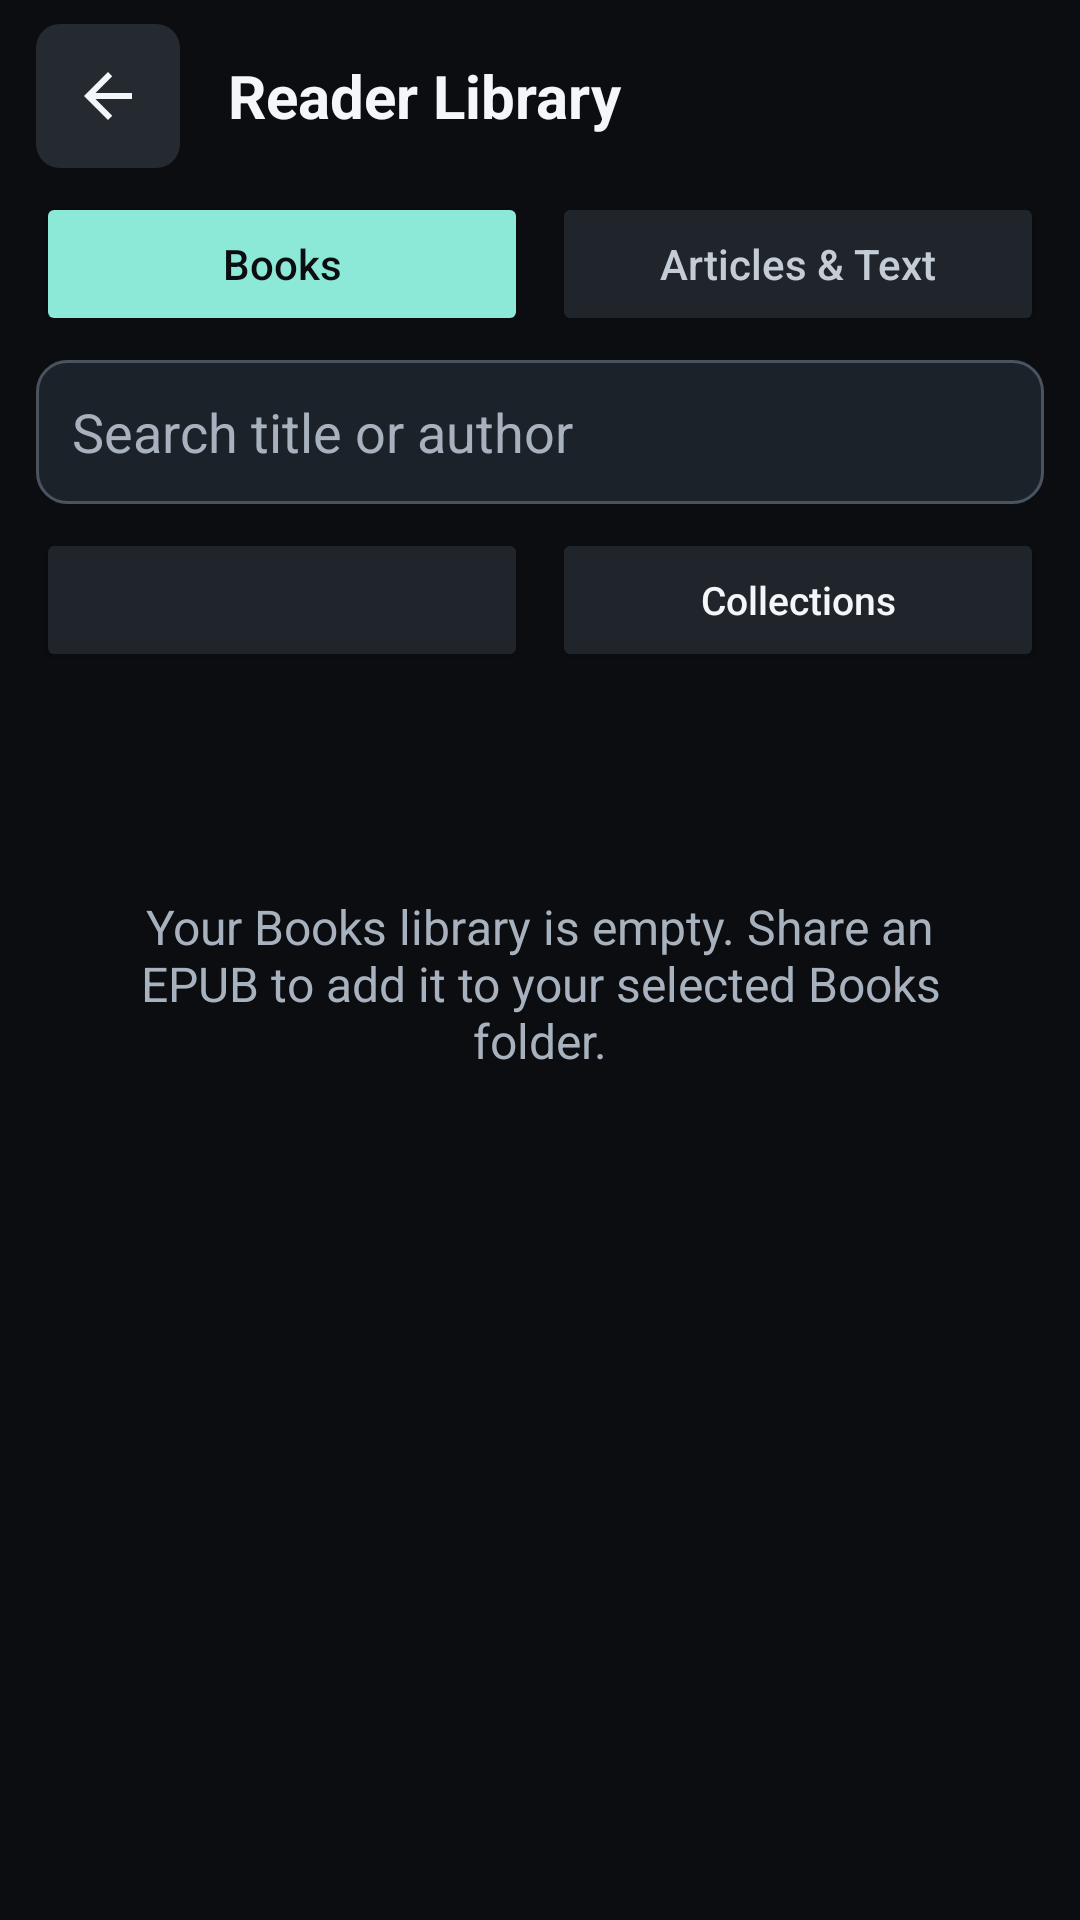

Point at icon controls on the screen. Image size 1080*1920, points as point (x, y).
Back: point (108, 96)
